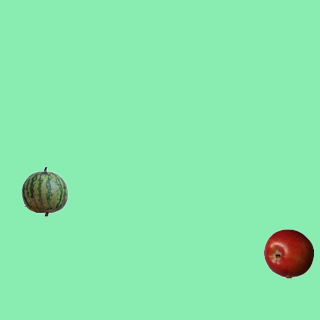Apple Braeburn: (263, 228, 313, 278)
Watermelon: (19, 166, 69, 216)
